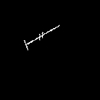treble_crochet: (26, 26, 58, 46)
